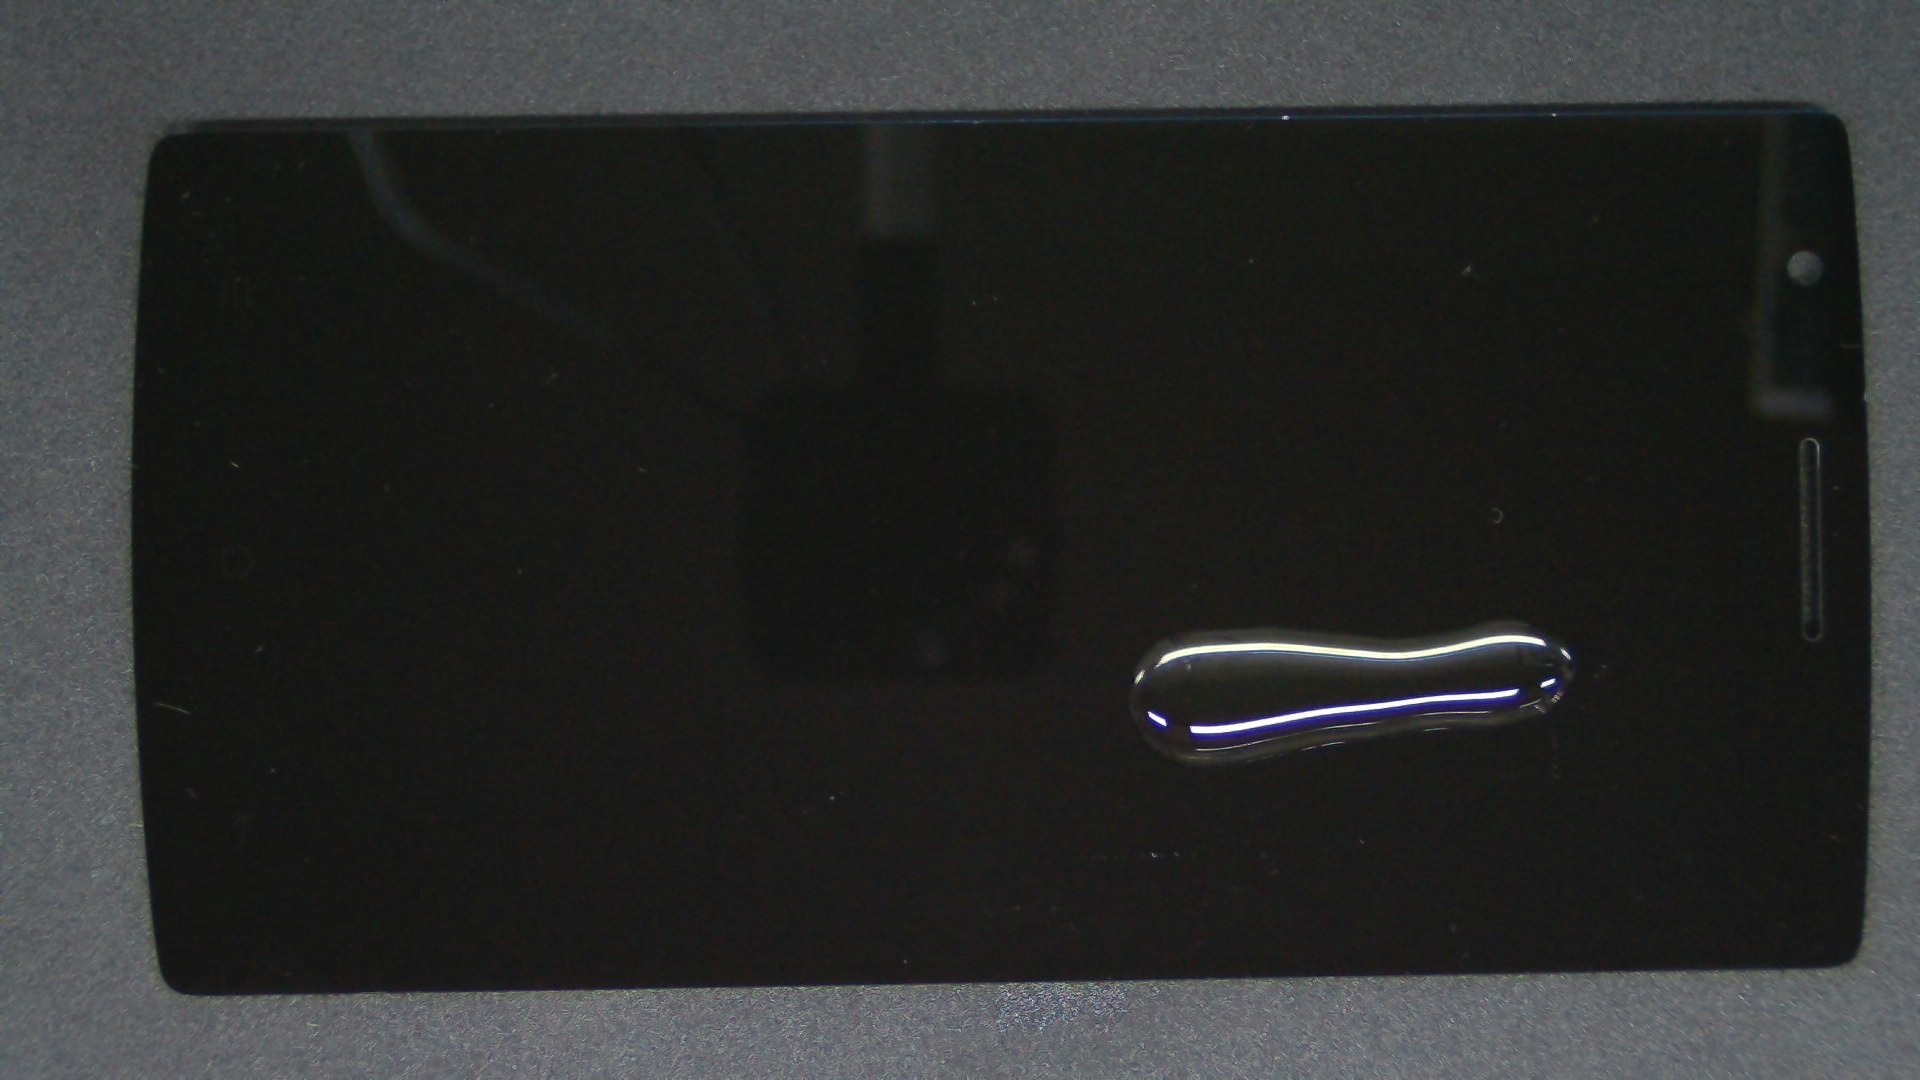oil: (754, 310, 1920, 934)
